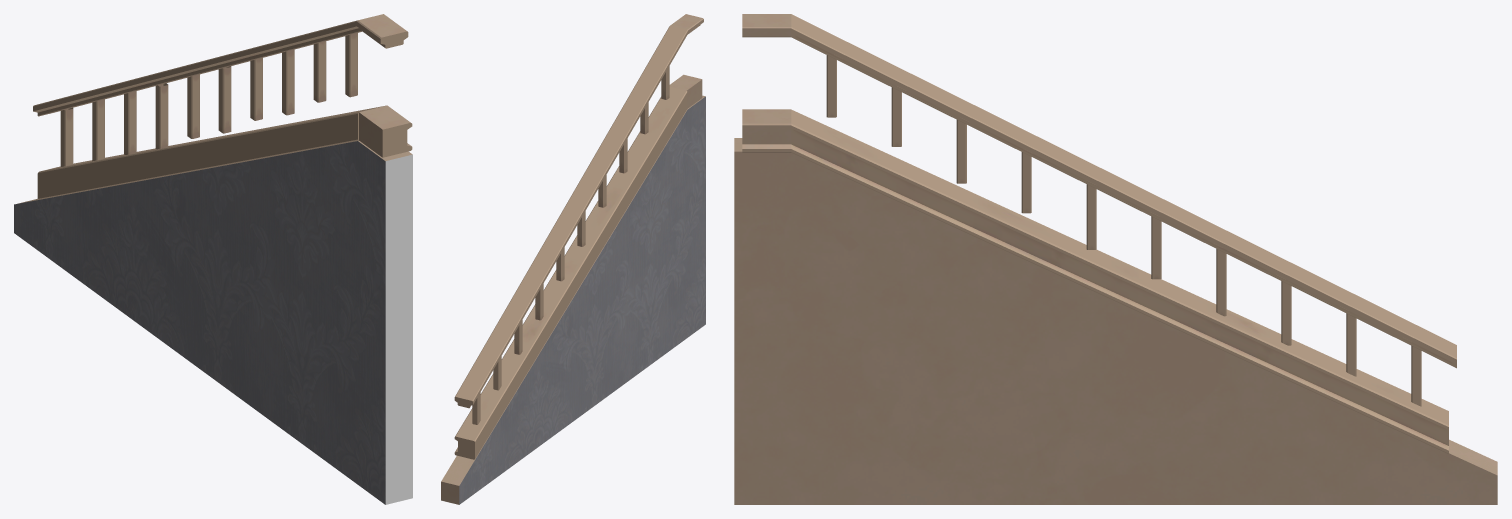
The model's file is StairRail.fbx.
3 views of the same model, side by side, from view 1: azimuth 30°, elevation 25°; view 2: azimuth 150°, elevation 25°; view 3: azimuth 270°, elevation 25° (orthographic). The views are drawn at different scales.
Visible parts, largest first — view 1: BannisterStick.001; view 2: BannisterStick.001; view 3: BannisterStick.001.
Boxes of the visible parts, x1,y1,x2,y2 form: BannisterStick.001: (14,14,412,504); BannisterStick.001: (441,14,705,504); BannisterStick.001: (734,14,1497,504).
Size of the model in its own units: 116 by 1621 by 2350.
